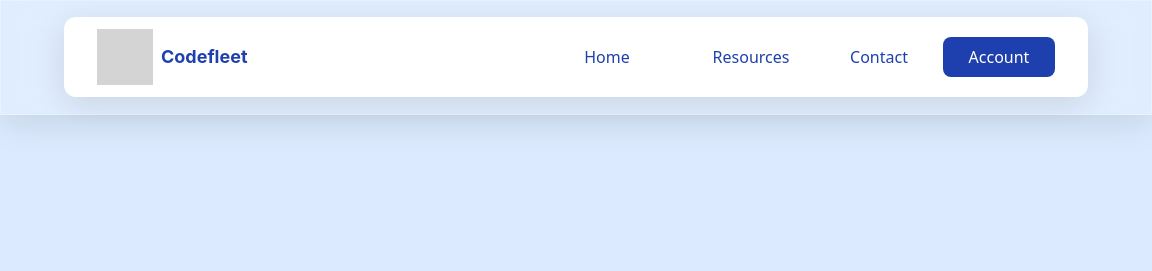
Test case: Header Component › renders Resources dropdown with correct links
// Click to open dropdown
Click the link "Resources".
click(751, 57)  # box [713,46,790,68]
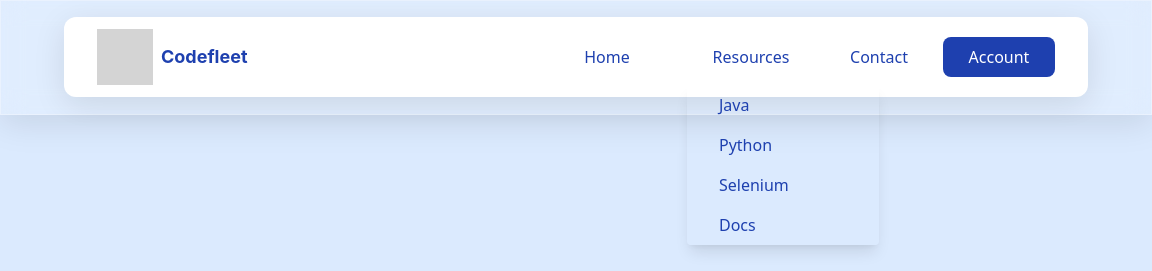
Expected: the link "Java" is shown, [719,94,750,116]
Expected: the link "Python" is shown, [719,134,772,156]
Expected: the link "Selenium" is shown, [719,174,789,196]
